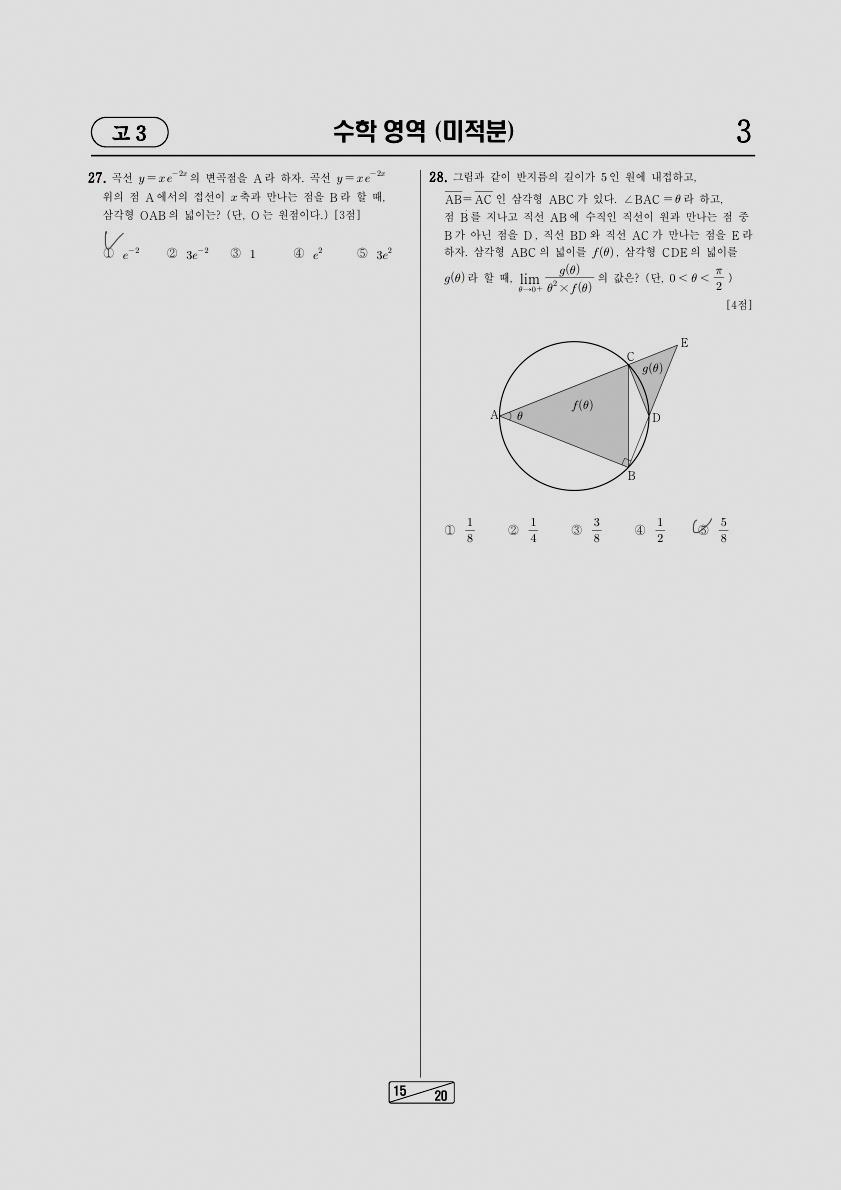question: (418, 162, 766, 557), (80, 162, 404, 280)
